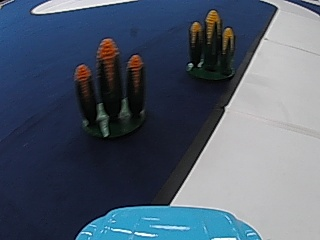corn: (78, 37, 149, 141), (185, 9, 237, 81)
